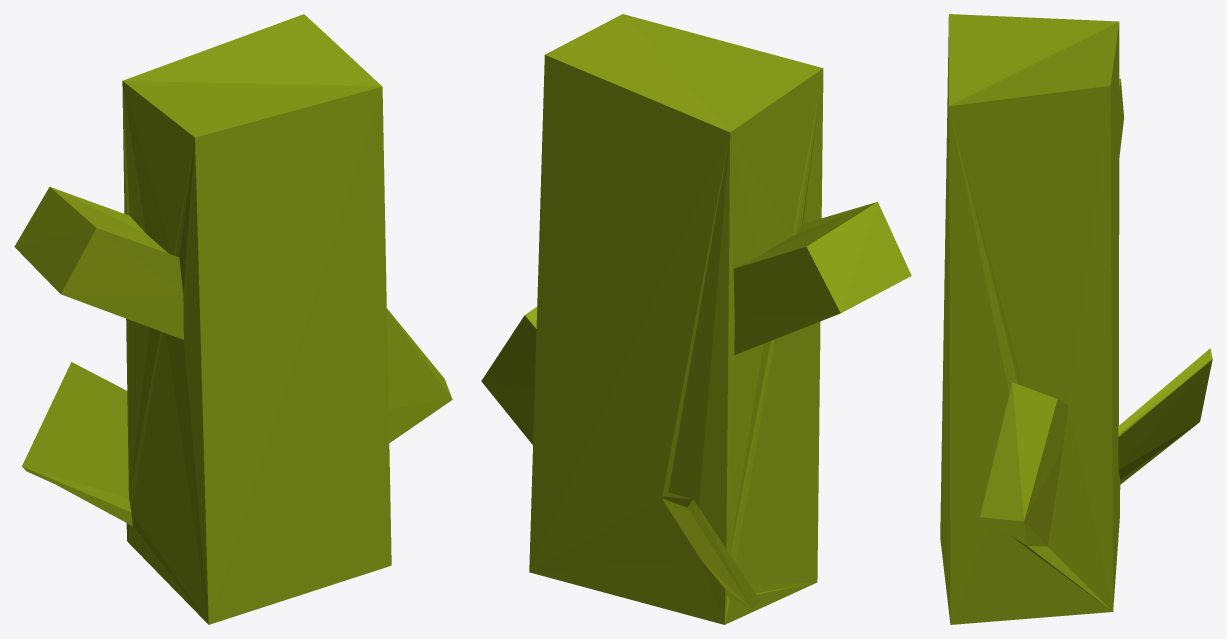
3 views of the same model, side by side, from view 1: azimuth 30°, elevation 25°; view 2: azimuth 150°, elevation 25°; view 3: azimuth 270°, elevation 25° (orthographic). The views are drawn at different scales.
Parts seen in each view (by area): view 1: 927_Cube.3747; view 2: 927_Cube.3747; view 3: 927_Cube.3747.
Part boxes in pixels (bbox=[...]): 927_Cube.3747: bbox=[14, 14, 452, 624]; 927_Cube.3747: bbox=[481, 14, 911, 624]; 927_Cube.3747: bbox=[940, 14, 1212, 624].
Bounding box in the file's own units: 10.23 × 12.74 × 5.75.
